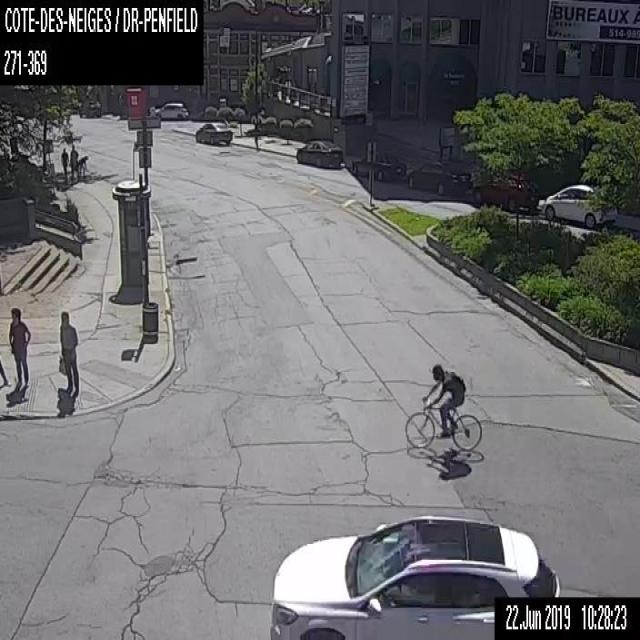cyclist: (404, 362, 482, 450)
pedestrian: (7, 306, 30, 386), (58, 311, 78, 396), (68, 143, 79, 182), (60, 146, 68, 180), (78, 155, 88, 180), (0, 356, 8, 385)
vehicle: (267, 513, 558, 639), (542, 181, 617, 228), (471, 172, 538, 210), (406, 158, 471, 194), (351, 148, 406, 181), (294, 138, 342, 166), (195, 120, 232, 145), (154, 100, 188, 119), (78, 99, 102, 116)
